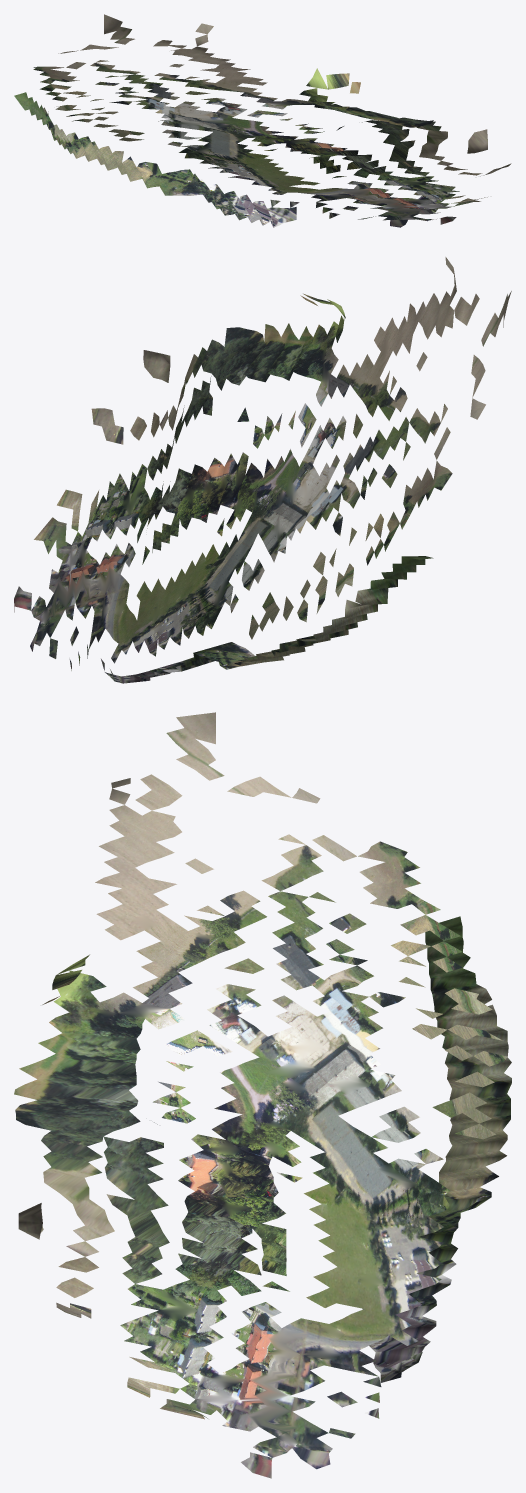
The model's file is odm_textured_model_geo.obj.
The picture shows the model from 3 angles, top to bottom: view 1: azimuth 30°, elevation 25°; view 2: azimuth 150°, elevation 25°; view 3: azimuth 270°, elevation 25°; orthographic projection. The views are drawn at different scales.
Bounding box in the file's own units: 1.27 × 1.03 × 0.9231.
1 material, 1 textured.
